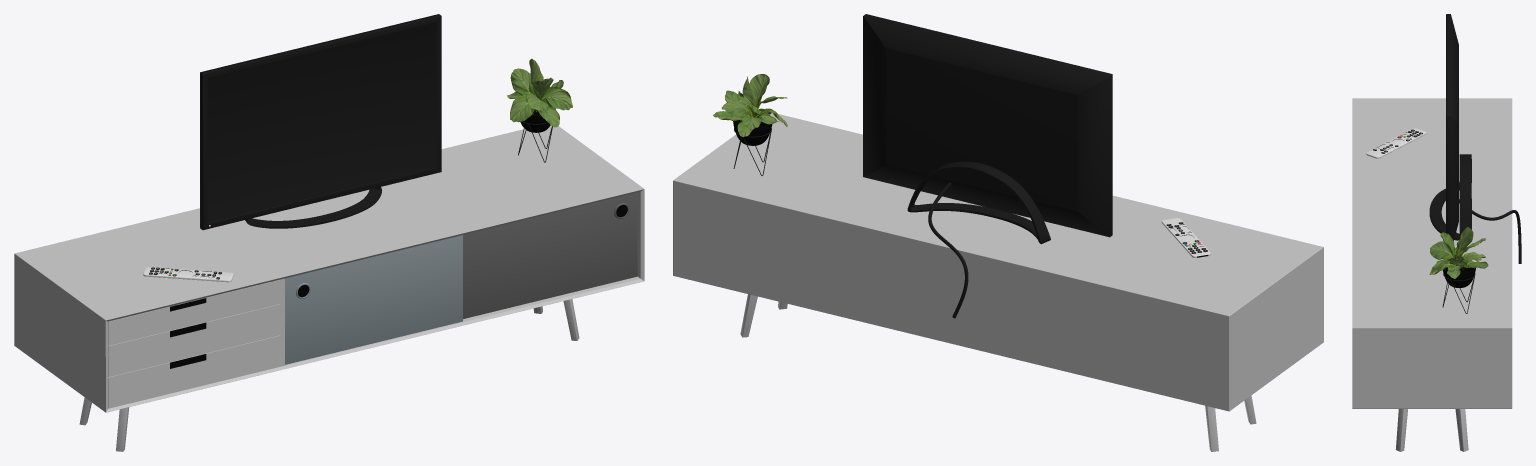
3 views of the same model, side by side, from view 1: azimuth 30°, elevation 25°; view 2: azimuth 150°, elevation 25°; view 3: azimuth 270°, elevation 25° (orthographic). The views are drawn at different scales.
Parts seen in each view (by area): view 1: tv_hack_0, Plant_1, Cube_2; view 2: tv_hack_0, Plant_1, Cube_2, BezierCurve_3; view 3: tv_hack_0, Plant_1, Cube_2, BezierCurve_3.
Part boxes in pixels (bbox=[...]): tv_hack_0: bbox=[14, 14, 644, 451]; Plant_1: bbox=[507, 58, 572, 162]; Cube_2: bbox=[143, 267, 233, 282]; tv_hack_0: bbox=[673, 14, 1323, 451]; Plant_1: bbox=[713, 74, 787, 175]; Cube_2: bbox=[1161, 218, 1210, 257]; BezierCurve_3: bbox=[928, 182, 968, 318]; tv_hack_0: bbox=[1352, 14, 1512, 451]; Plant_1: bbox=[1429, 227, 1488, 313]; Cube_2: bbox=[1366, 128, 1426, 158]; BezierCurve_3: bbox=[1459, 199, 1521, 263].
Size of the model in its own units: 1.7 by 0.9962 by 0.5304.
